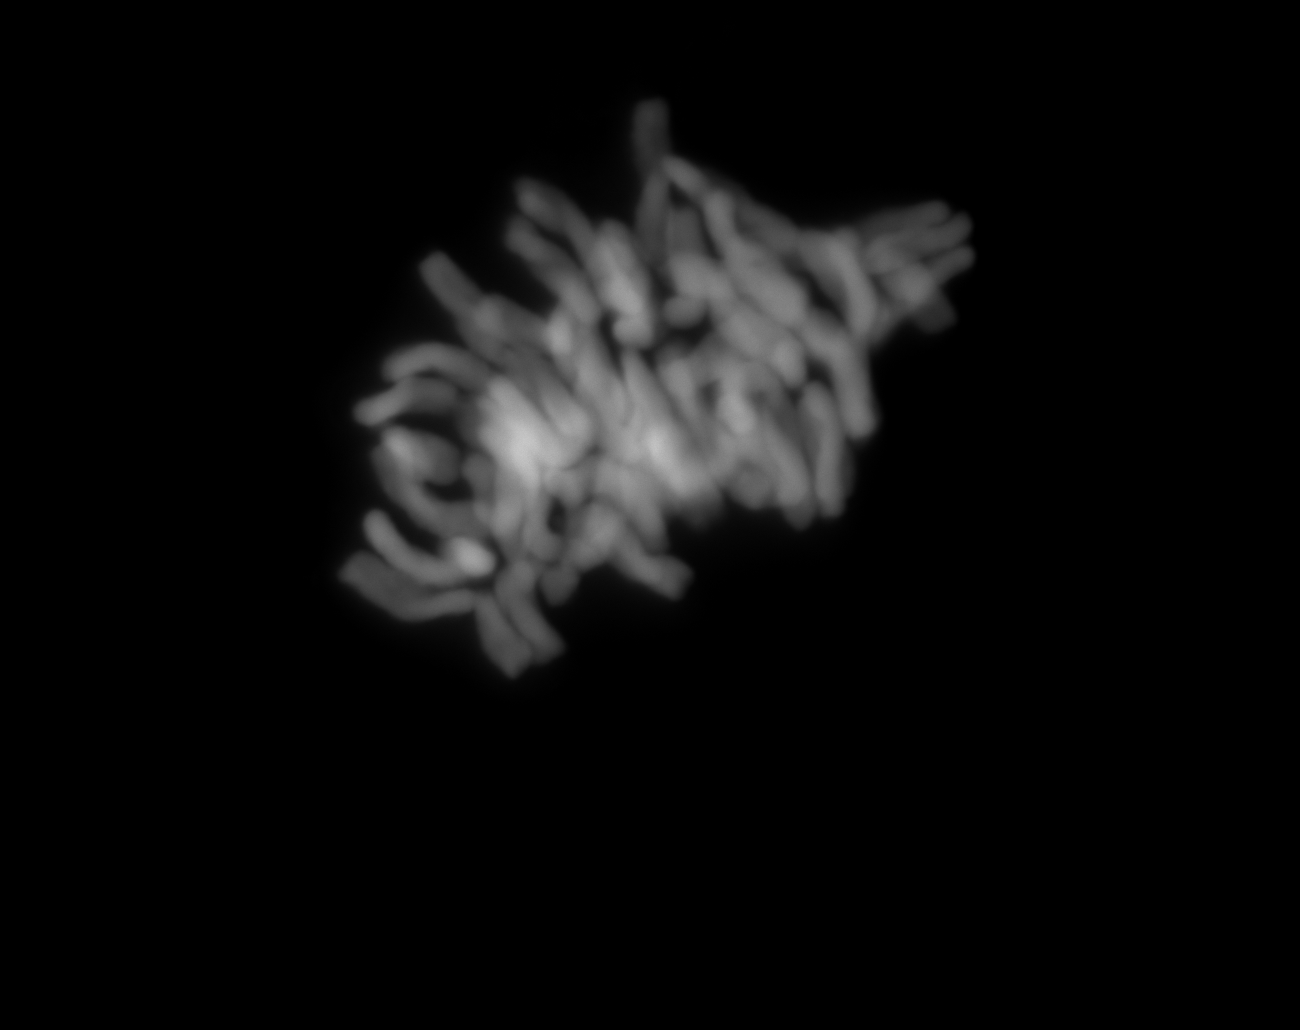Chromosomes: (253, 87, 1020, 735)
